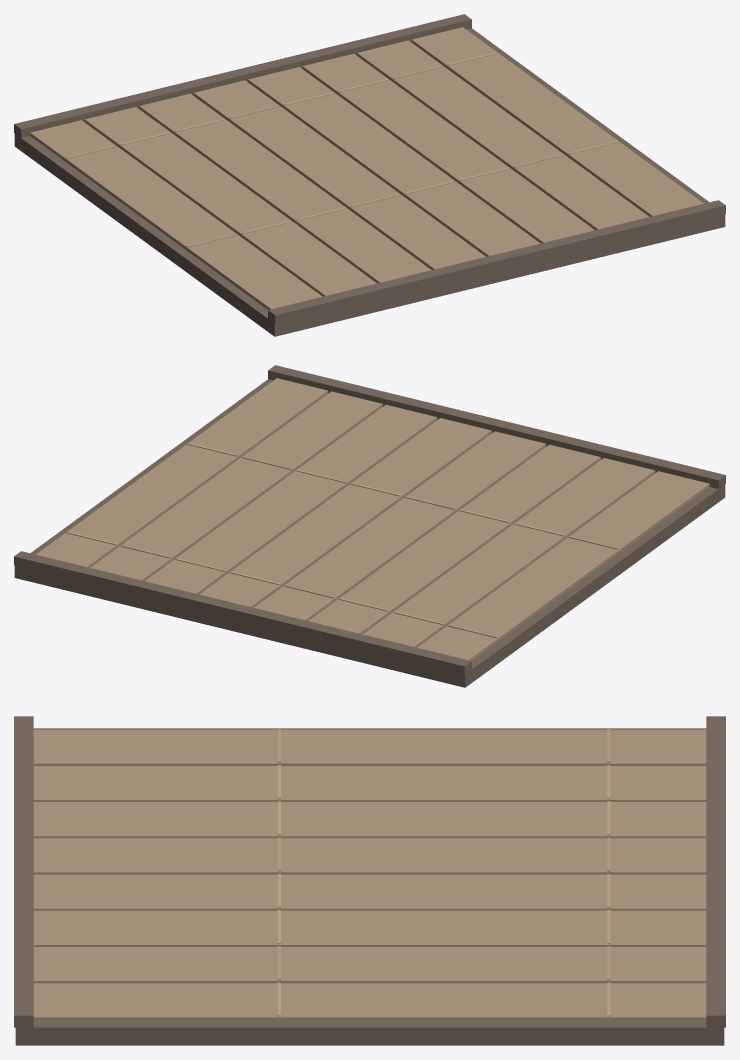
Rendered from floor_4m.glb.
3 views of the same model, one above another, from view 1: azimuth 30°, elevation 25°; view 2: azimuth 150°, elevation 25°; view 3: azimuth 270°, elevation 25° (orthographic). The views are drawn at different scales.
Visible parts, largest first — view 1: floor, wood_dark, floor_light, wood_light; view 2: floor, wood_dark, floor_light, wood_light; view 3: floor, wood_dark, floor_light, wood_light.
Boxes of the visible parts, bbox=[...] form: floor: bbox=[30, 27, 703, 309]; wood_dark: bbox=[14, 14, 725, 336]; floor_light: bbox=[121, 52, 619, 233]; wood_light: bbox=[66, 65, 564, 247]; floor: bbox=[36, 378, 709, 660]; wood_dark: bbox=[14, 365, 725, 687]; floor_light: bbox=[66, 443, 564, 624]; wood_light: bbox=[121, 456, 619, 638]; floor: bbox=[33, 729, 706, 1021]; wood_dark: bbox=[14, 716, 725, 1045]; floor_light: bbox=[278, 765, 610, 1016]; wood_light: bbox=[278, 729, 610, 980].
Bounding box in the file's own units: 4.3 × 0.2 × 4.32.
